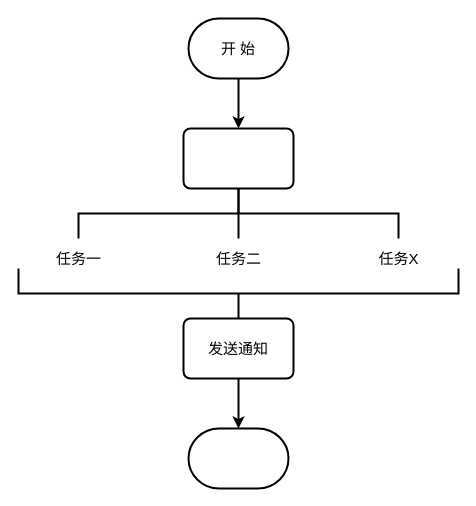
This 476x506 diagram has some shape labels left out. Here are the shapes that lost their labels. From the top down, the centre of each, then its label:
At (x=238, y=158): "登 陆".
At (x=238, y=458): "结 束".
